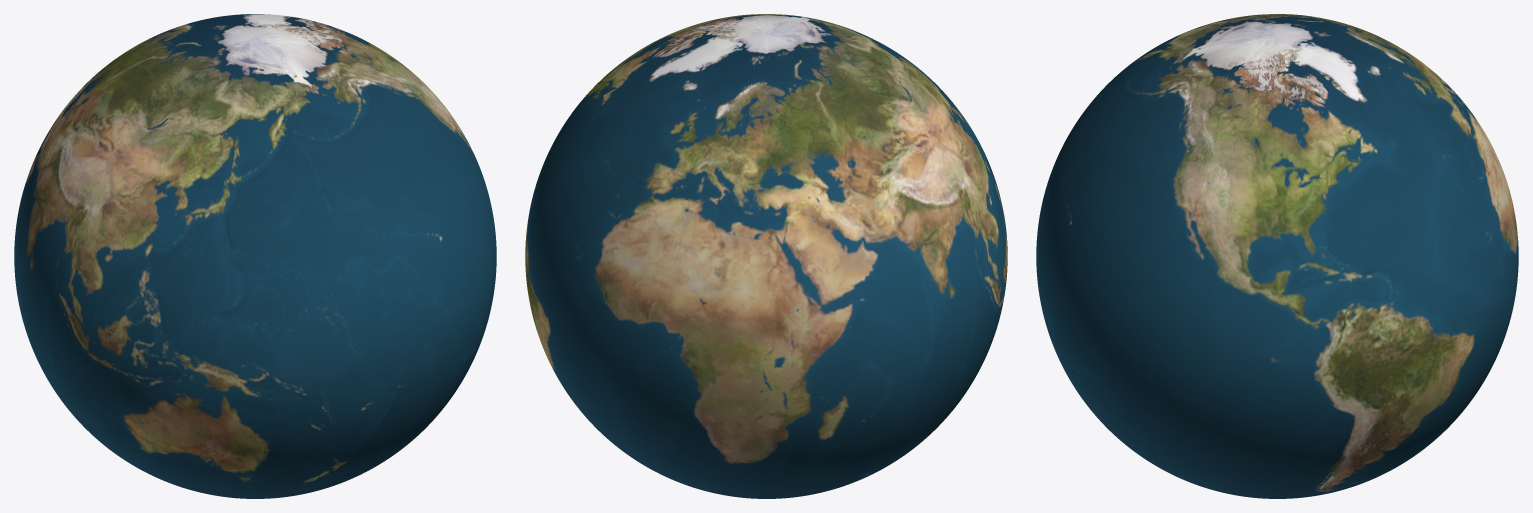
Rendered from planet_earth.glb.
3 views of the same model, side by side, from view 1: azimuth 30°, elevation 25°; view 2: azimuth 150°, elevation 25°; view 3: azimuth 270°, elevation 25° (orthographic).
Visible parts, largest first — view 1: Sphere_2; view 2: Sphere_2; view 3: Sphere_2.
Boxes of the visible parts, x1=… form: Sphere_2: x1=14, y1=14, x2=496, y2=498; Sphere_2: x1=525, y1=14, x2=1007, y2=498; Sphere_2: x1=1036, y1=14, x2=1518, y2=498.
Size of the model in its own units: 1.97 by 2 by 1.97.
1 material, 1 textured.
